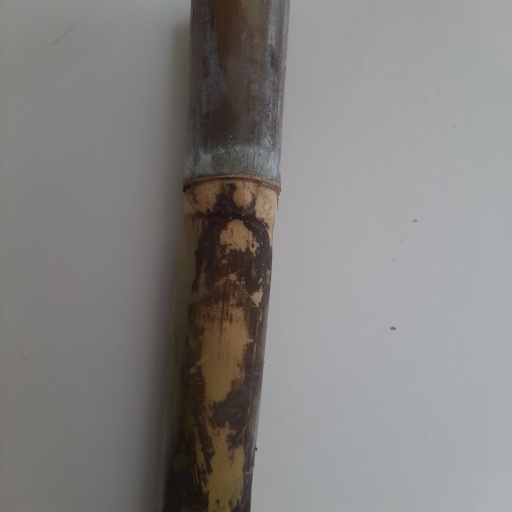Bud: (230, 184, 255, 213)
